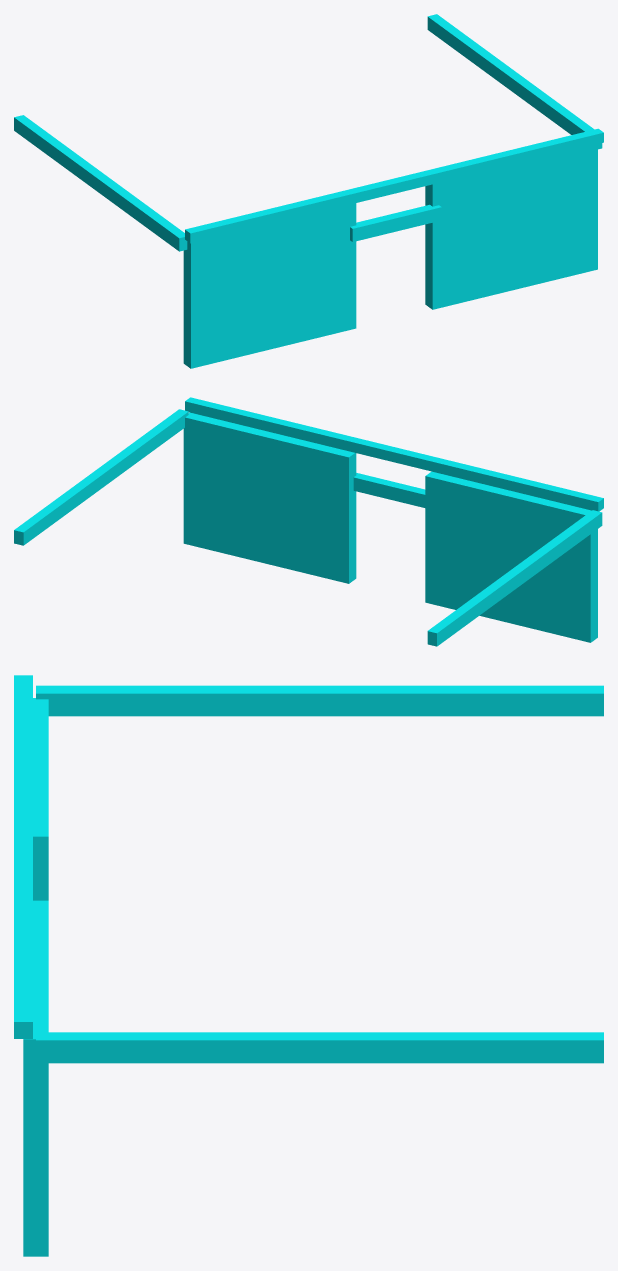
File: sunglasses.glb
3 views of the same model, one above another, from view 1: azimuth 30°, elevation 25°; view 2: azimuth 150°, elevation 25°; view 3: azimuth 270°, elevation 25° (orthographic). The views are drawn at different scales.
Visible parts, largest first — view 1: Sunglasses_Material; view 2: Sunglasses_Material; view 3: Sunglasses_Material.
Boxes of the visible parts, left/top/right/bottom form: Sunglasses_Material: left=14, top=14, right=603, bottom=368; Sunglasses_Material: left=14, top=397, right=603, bottom=646; Sunglasses_Material: left=14, top=675, right=603, bottom=1256.
Size of the model in its own units: 1.33 by 0.415 by 0.935.
